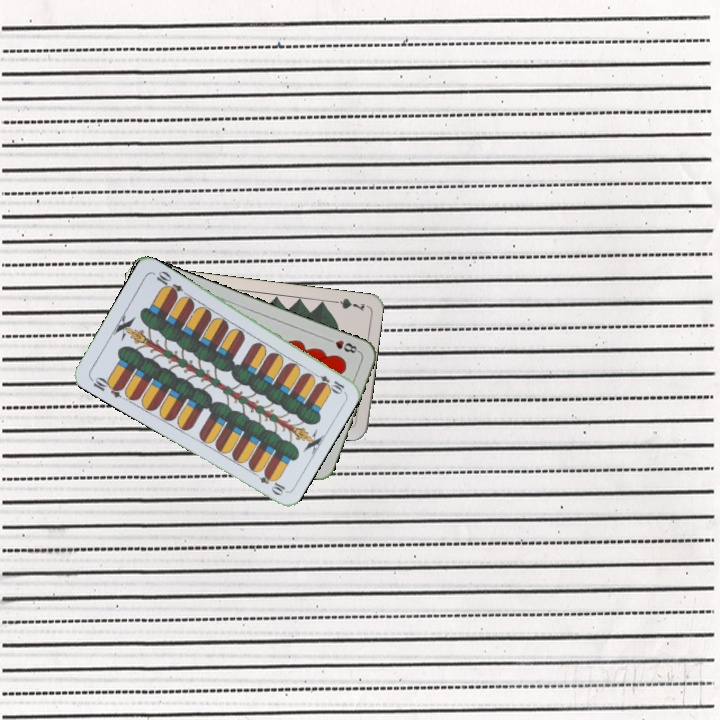E10: (86, 373, 126, 400), (308, 368, 347, 395)
G7: (327, 294, 367, 314)
H8: (323, 334, 362, 356)
